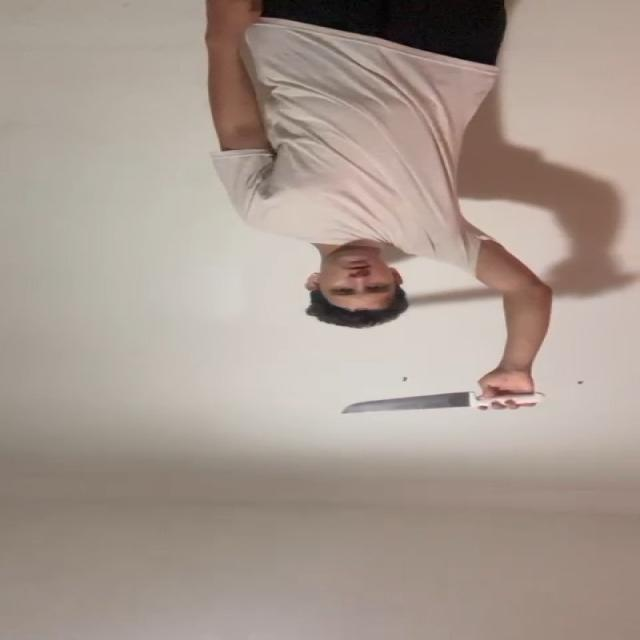knife: (344, 396, 464, 415)
